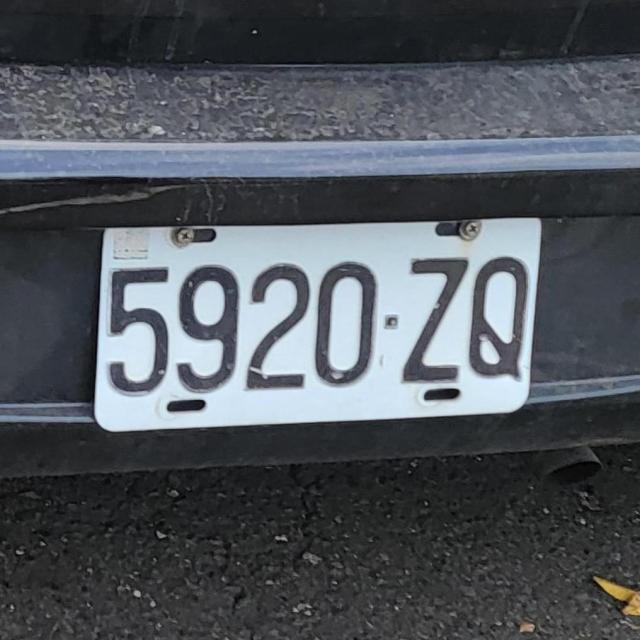W: (82, 205, 550, 439)
